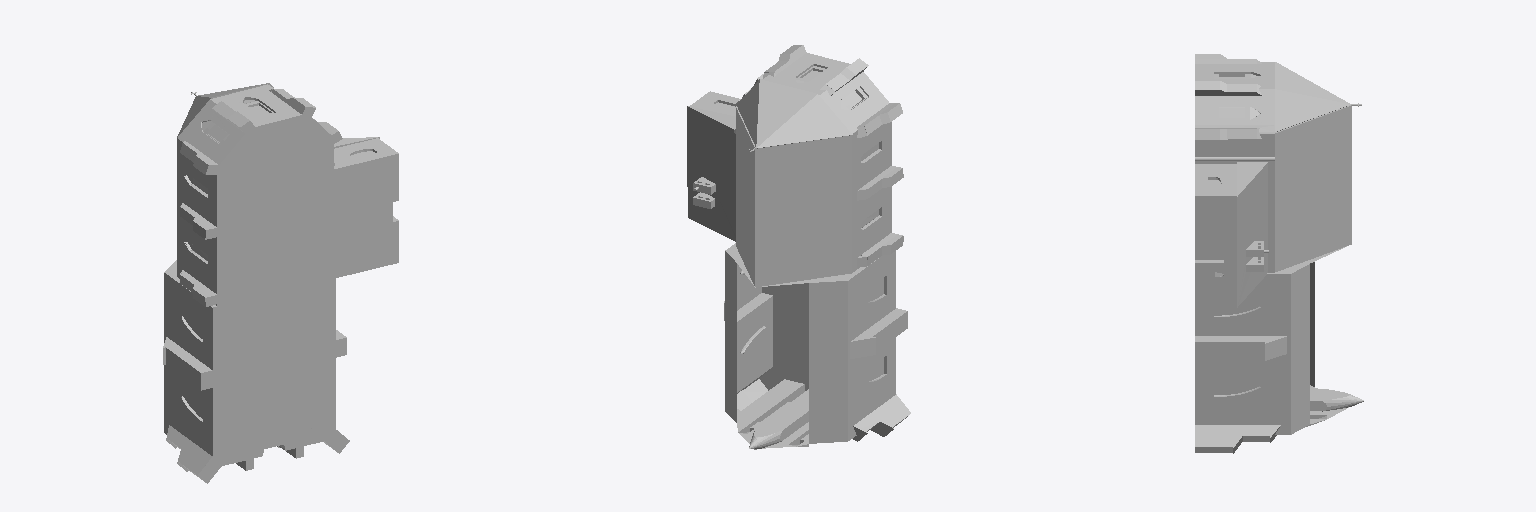
The model's file is Sw Wacław jedna druga.obj.
3 renders of one model, left to right at view 1: azimuth 30°, elevation 25°; view 2: azimuth 150°, elevation 25°; view 3: azimuth 270°, elevation 25°, orthographic.
Parts seen in each view (by area): view 1: Radom_3D_Sw_Waclaw_2; view 2: Radom_3D_Sw_Waclaw_2; view 3: Radom_3D_Sw_Waclaw_2.
Part boxes in pixels (left/top/right/bottom): Radom_3D_Sw_Waclaw_2: left=163, top=83, right=398, bottom=483; Radom_3D_Sw_Waclaw_2: left=687, top=45, right=910, bottom=449; Radom_3D_Sw_Waclaw_2: left=1195, top=54, right=1363, bottom=453.
Size of the model in its own units: 0.0316 by 0.0526 by 0.0227.